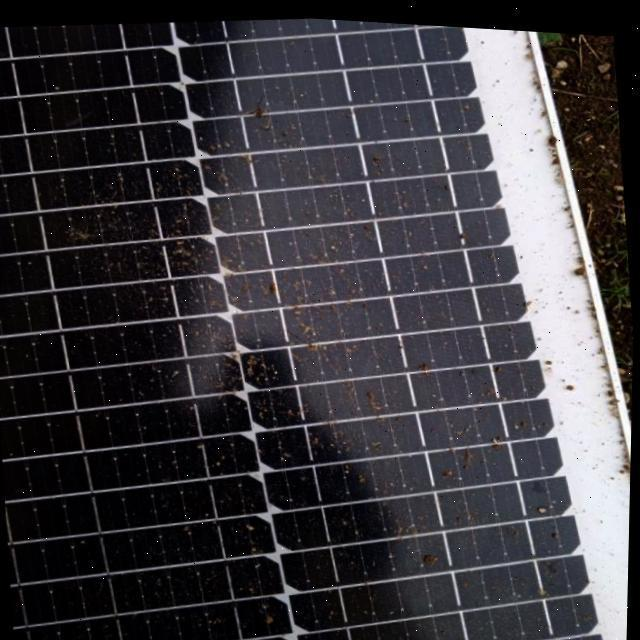Anomaly Solar Panel: (0, 0, 570, 640)
Surface Contaminant: (0, 14, 529, 640)
